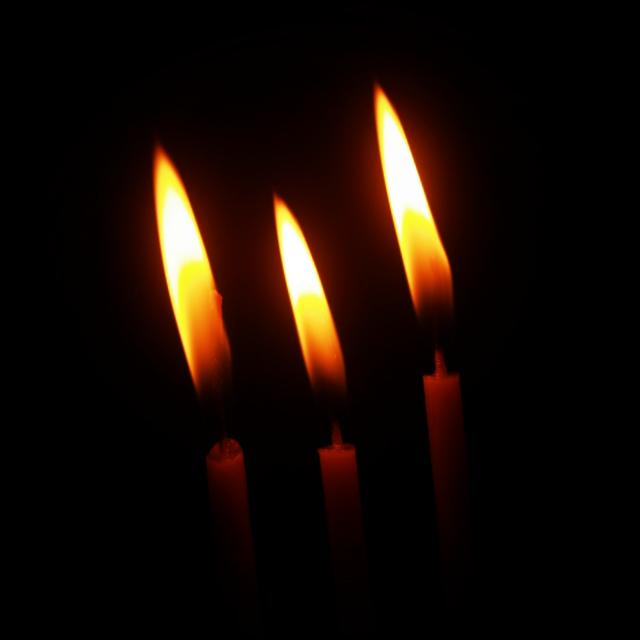Fire_Save: (132, 67, 506, 640), (141, 133, 244, 438), (366, 72, 464, 354)
